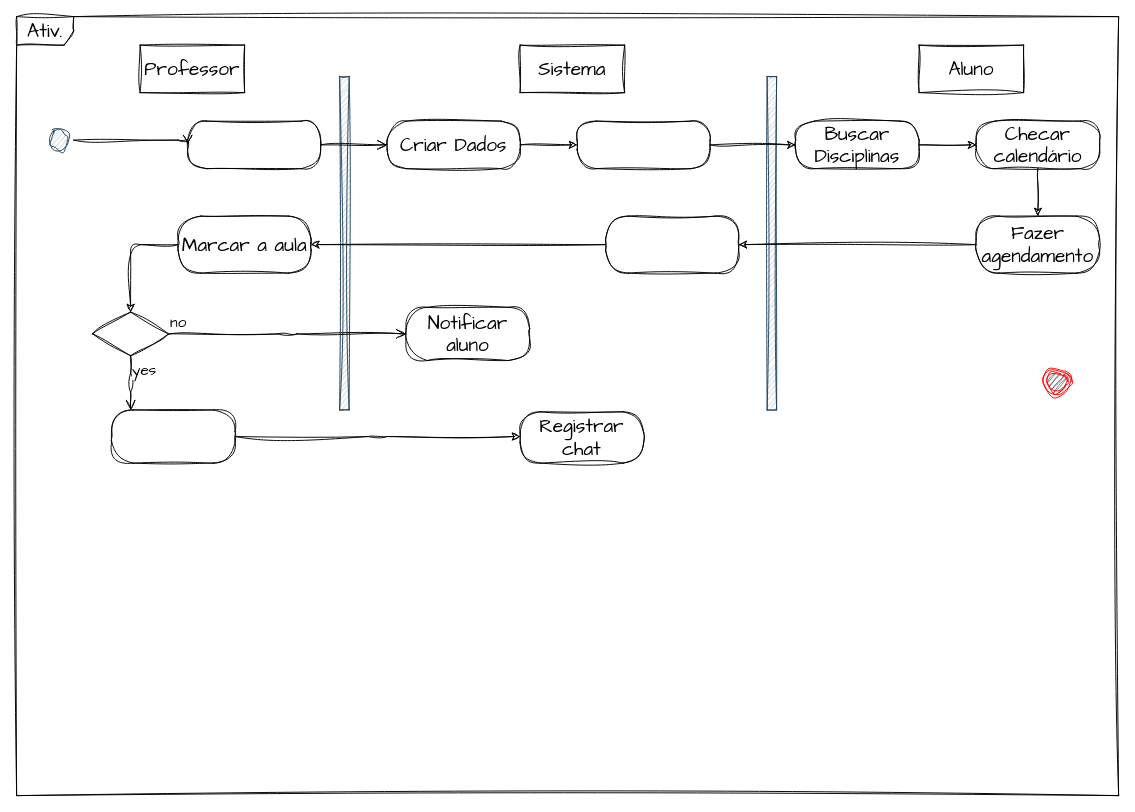
Some shapes in this 1135 by 812 pixel diagram are drawn without their labels. The centre of each missing label's shape, as x and y in pixels:
"Condition" belongs at point 130,333.
"Editar Dados" belongs at point 643,144.
"Emitir notificações" belongs at point 672,244.
"Fazer Cadastro" belongs at point 254,144.
"Iniciar negociações" belongs at point 173,436.
